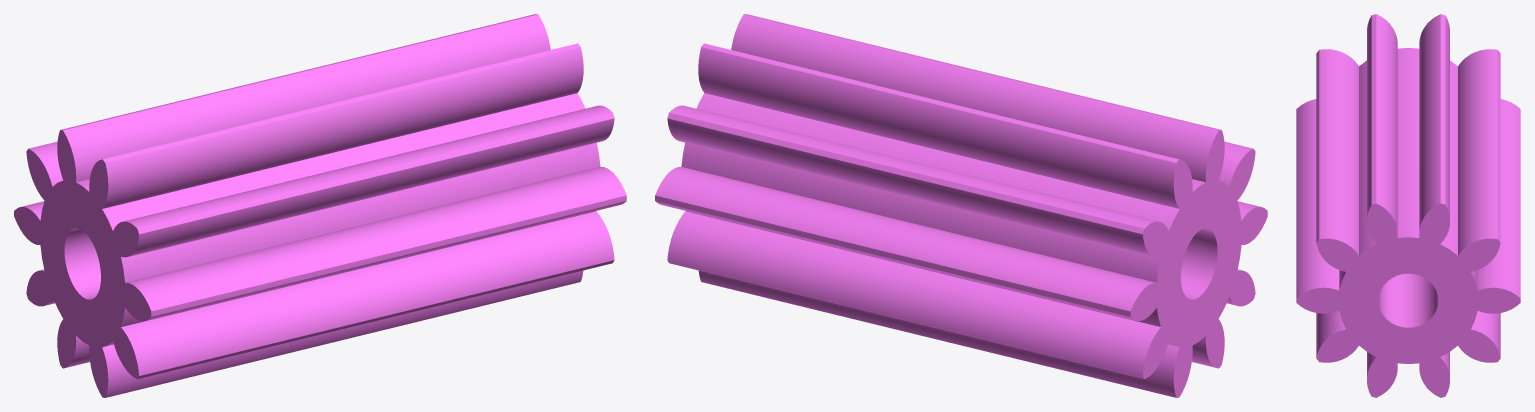
File: spur gear_iso.fbx
The picture shows the model from 3 angles, left to right: view 1: azimuth 30°, elevation 25°; view 2: azimuth 150°, elevation 25°; view 3: azimuth 270°, elevation 25°; orthographic projection. The views are drawn at different scales.
Parts seen in each view (by area): view 1: ISO - Spur gear 0.25M 10T 20PA 6FW ---S10A75H50L0.8N; view 2: ISO - Spur gear 0.25M 10T 20PA 6FW ---S10A75H50L0.8N; view 3: ISO - Spur gear 0.25M 10T 20PA 6FW ---S10A75H50L0.8N.
Part boxes in pixels (x1=…): ISO - Spur gear 0.25M 10T 20PA 6FW ---S10A75H50L0.8N: x1=14, y1=14, x2=626, y2=397; ISO - Spur gear 0.25M 10T 20PA 6FW ---S10A75H50L0.8N: x1=655, y1=14, x2=1267, y2=397; ISO - Spur gear 0.25M 10T 20PA 6FW ---S10A75H50L0.8N: x1=1296, y1=14, x2=1520, y2=397.
Bounding box in the file's own units: 6 × 2.87 × 3.
